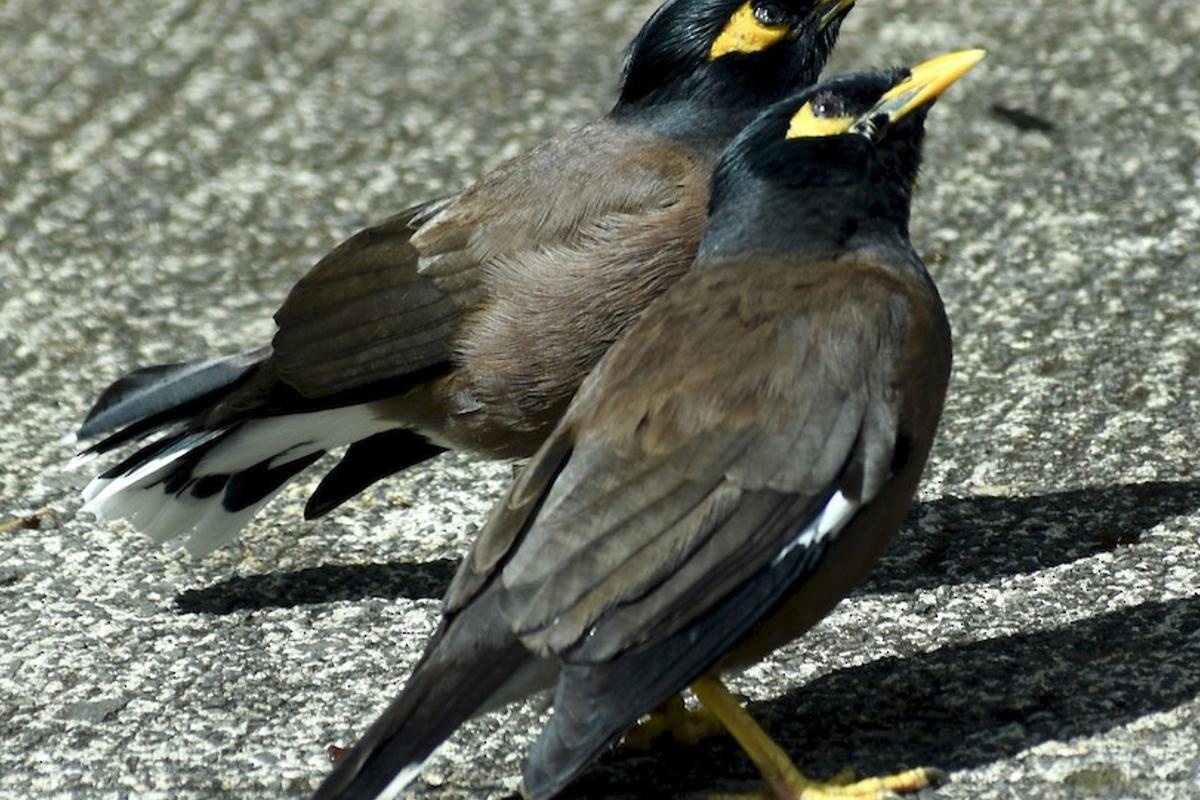myna: (338, 33, 1008, 800)
